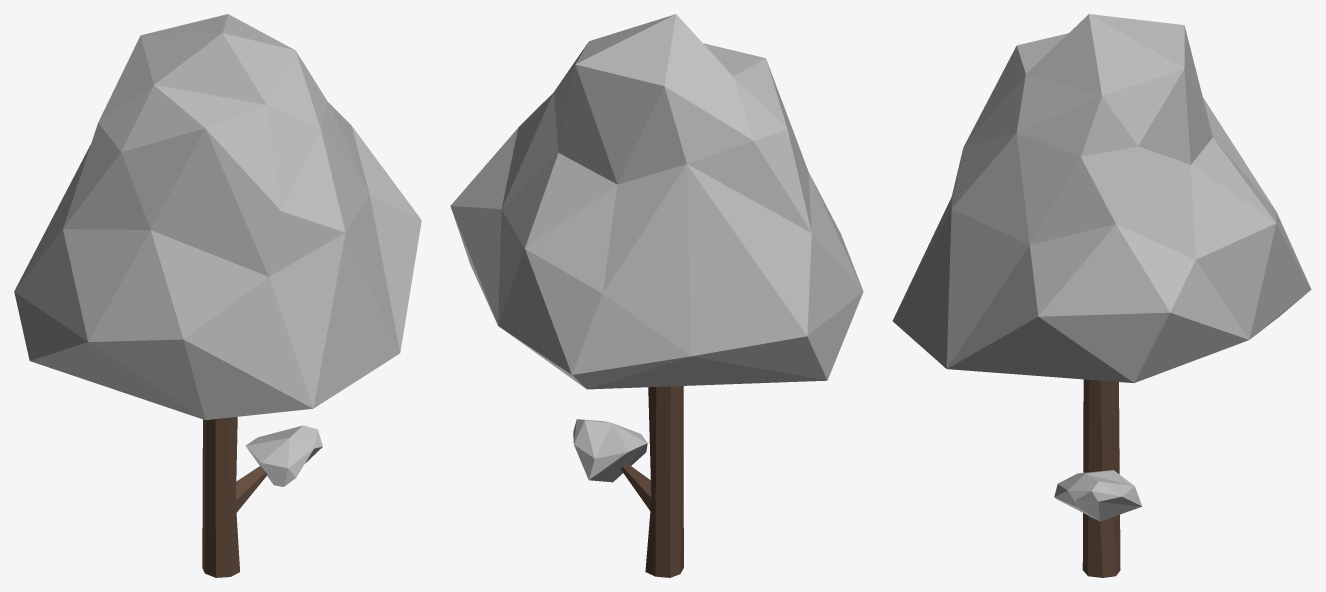
File: Tree_45_White.fbx
The picture shows the model from 3 angles, left to right: view 1: azimuth 30°, elevation 25°; view 2: azimuth 150°, elevation 25°; view 3: azimuth 270°, elevation 25°; orthographic projection.
Parts seen in each view (by area): view 1: Tree_45_White_Part_1, Tree_45_White_Part_3, Tree_45_White_Part_2; view 2: Tree_45_White_Part_1, Tree_45_White_Part_3, Tree_45_White_Part_2; view 3: Tree_45_White_Part_1, Tree_45_White_Part_3, Tree_45_White_Part_2.
Part boxes in pixels (x1,y1,x2,y2): Tree_45_White_Part_1: [14, 14, 421, 420]; Tree_45_White_Part_3: [202, 417, 267, 577]; Tree_45_White_Part_2: [245, 425, 322, 486]; Tree_45_White_Part_1: [450, 14, 863, 389]; Tree_45_White_Part_3: [621, 386, 683, 577]; Tree_45_White_Part_2: [573, 419, 647, 482]; Tree_45_White_Part_1: [892, 14, 1311, 382]; Tree_45_White_Part_3: [1082, 379, 1120, 577]; Tree_45_White_Part_2: [1054, 470, 1142, 521].
Size of the model in its own units: 549 by 807 by 554.
